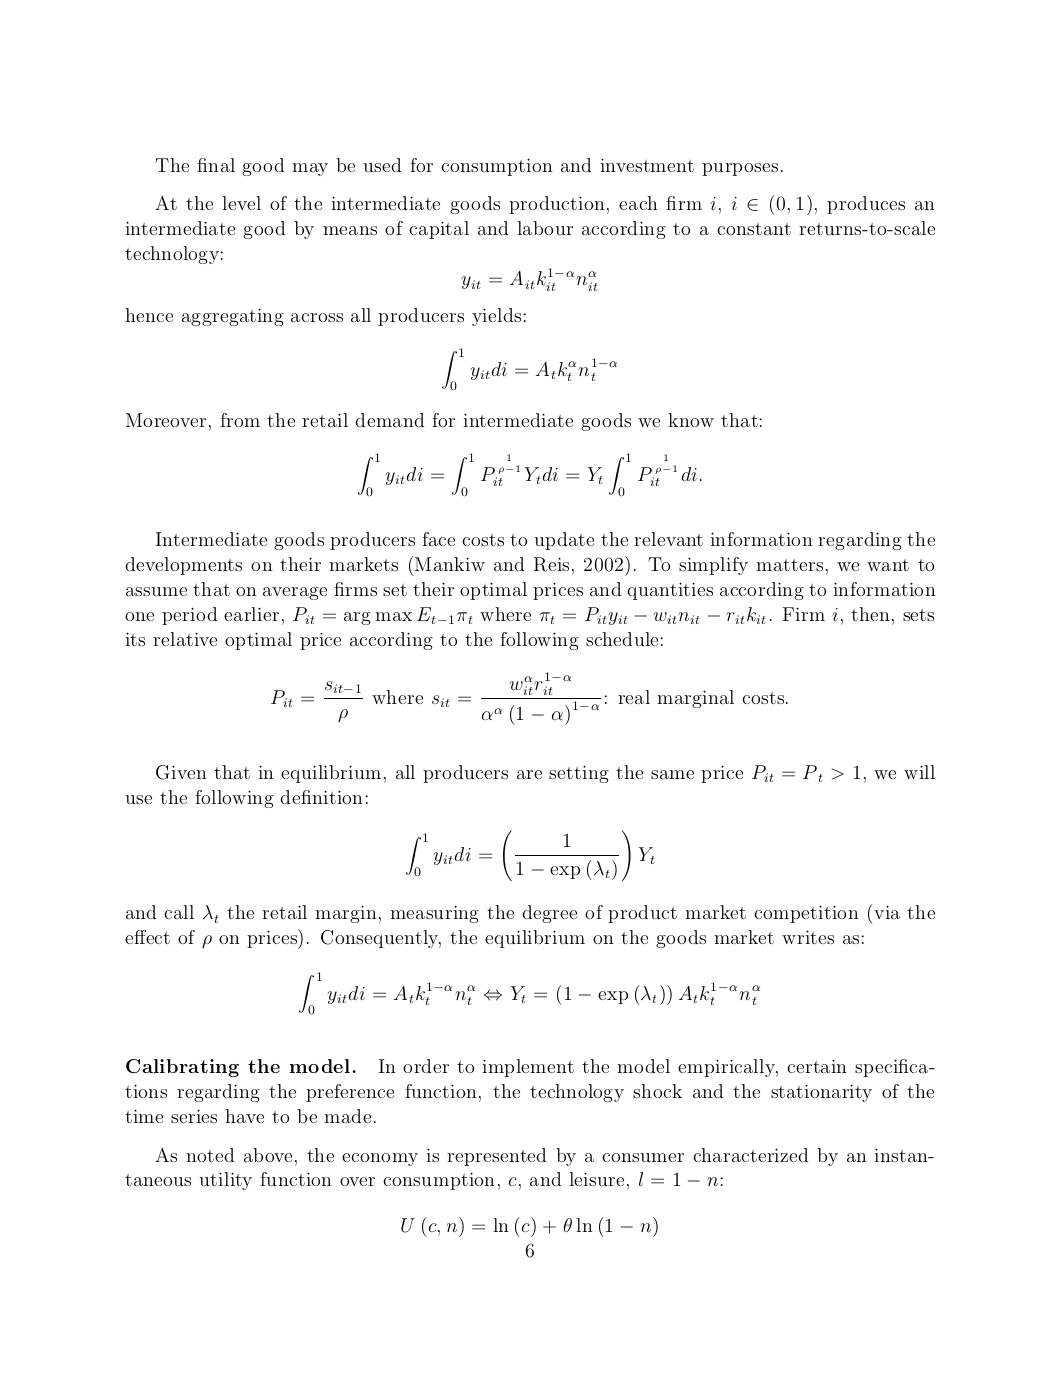formula: (271, 671, 787, 726), (299, 971, 760, 1015), (358, 452, 701, 497), (406, 829, 654, 882), (442, 347, 617, 391), (401, 1216, 658, 1237), (461, 267, 597, 291)
